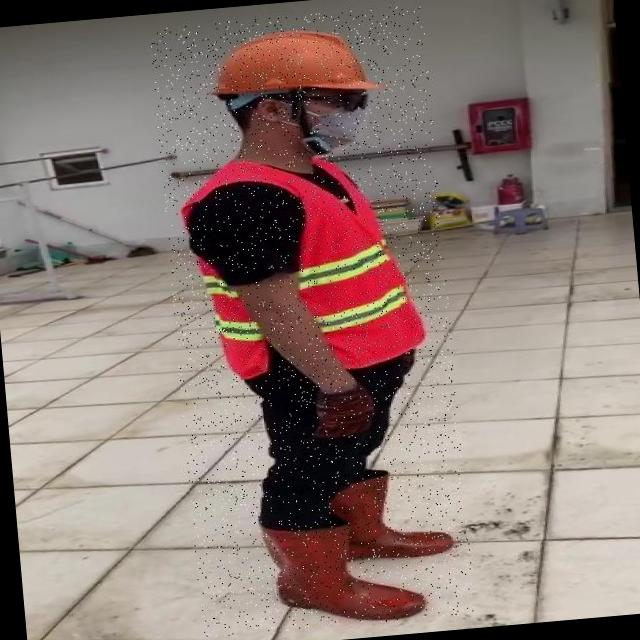boots: (262, 514, 422, 628), (326, 467, 459, 563)
gloves: (306, 372, 378, 449)
helmet: (200, 19, 374, 103)
vest: (168, 153, 437, 380)
